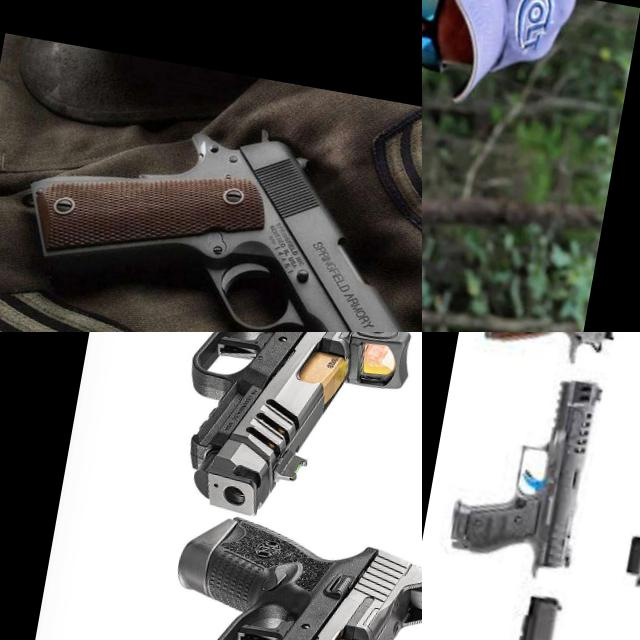handgun: (0, 85, 422, 332), (95, 332, 422, 541), (132, 506, 422, 640), (438, 358, 606, 588), (476, 332, 640, 433), (422, 574, 565, 640)
